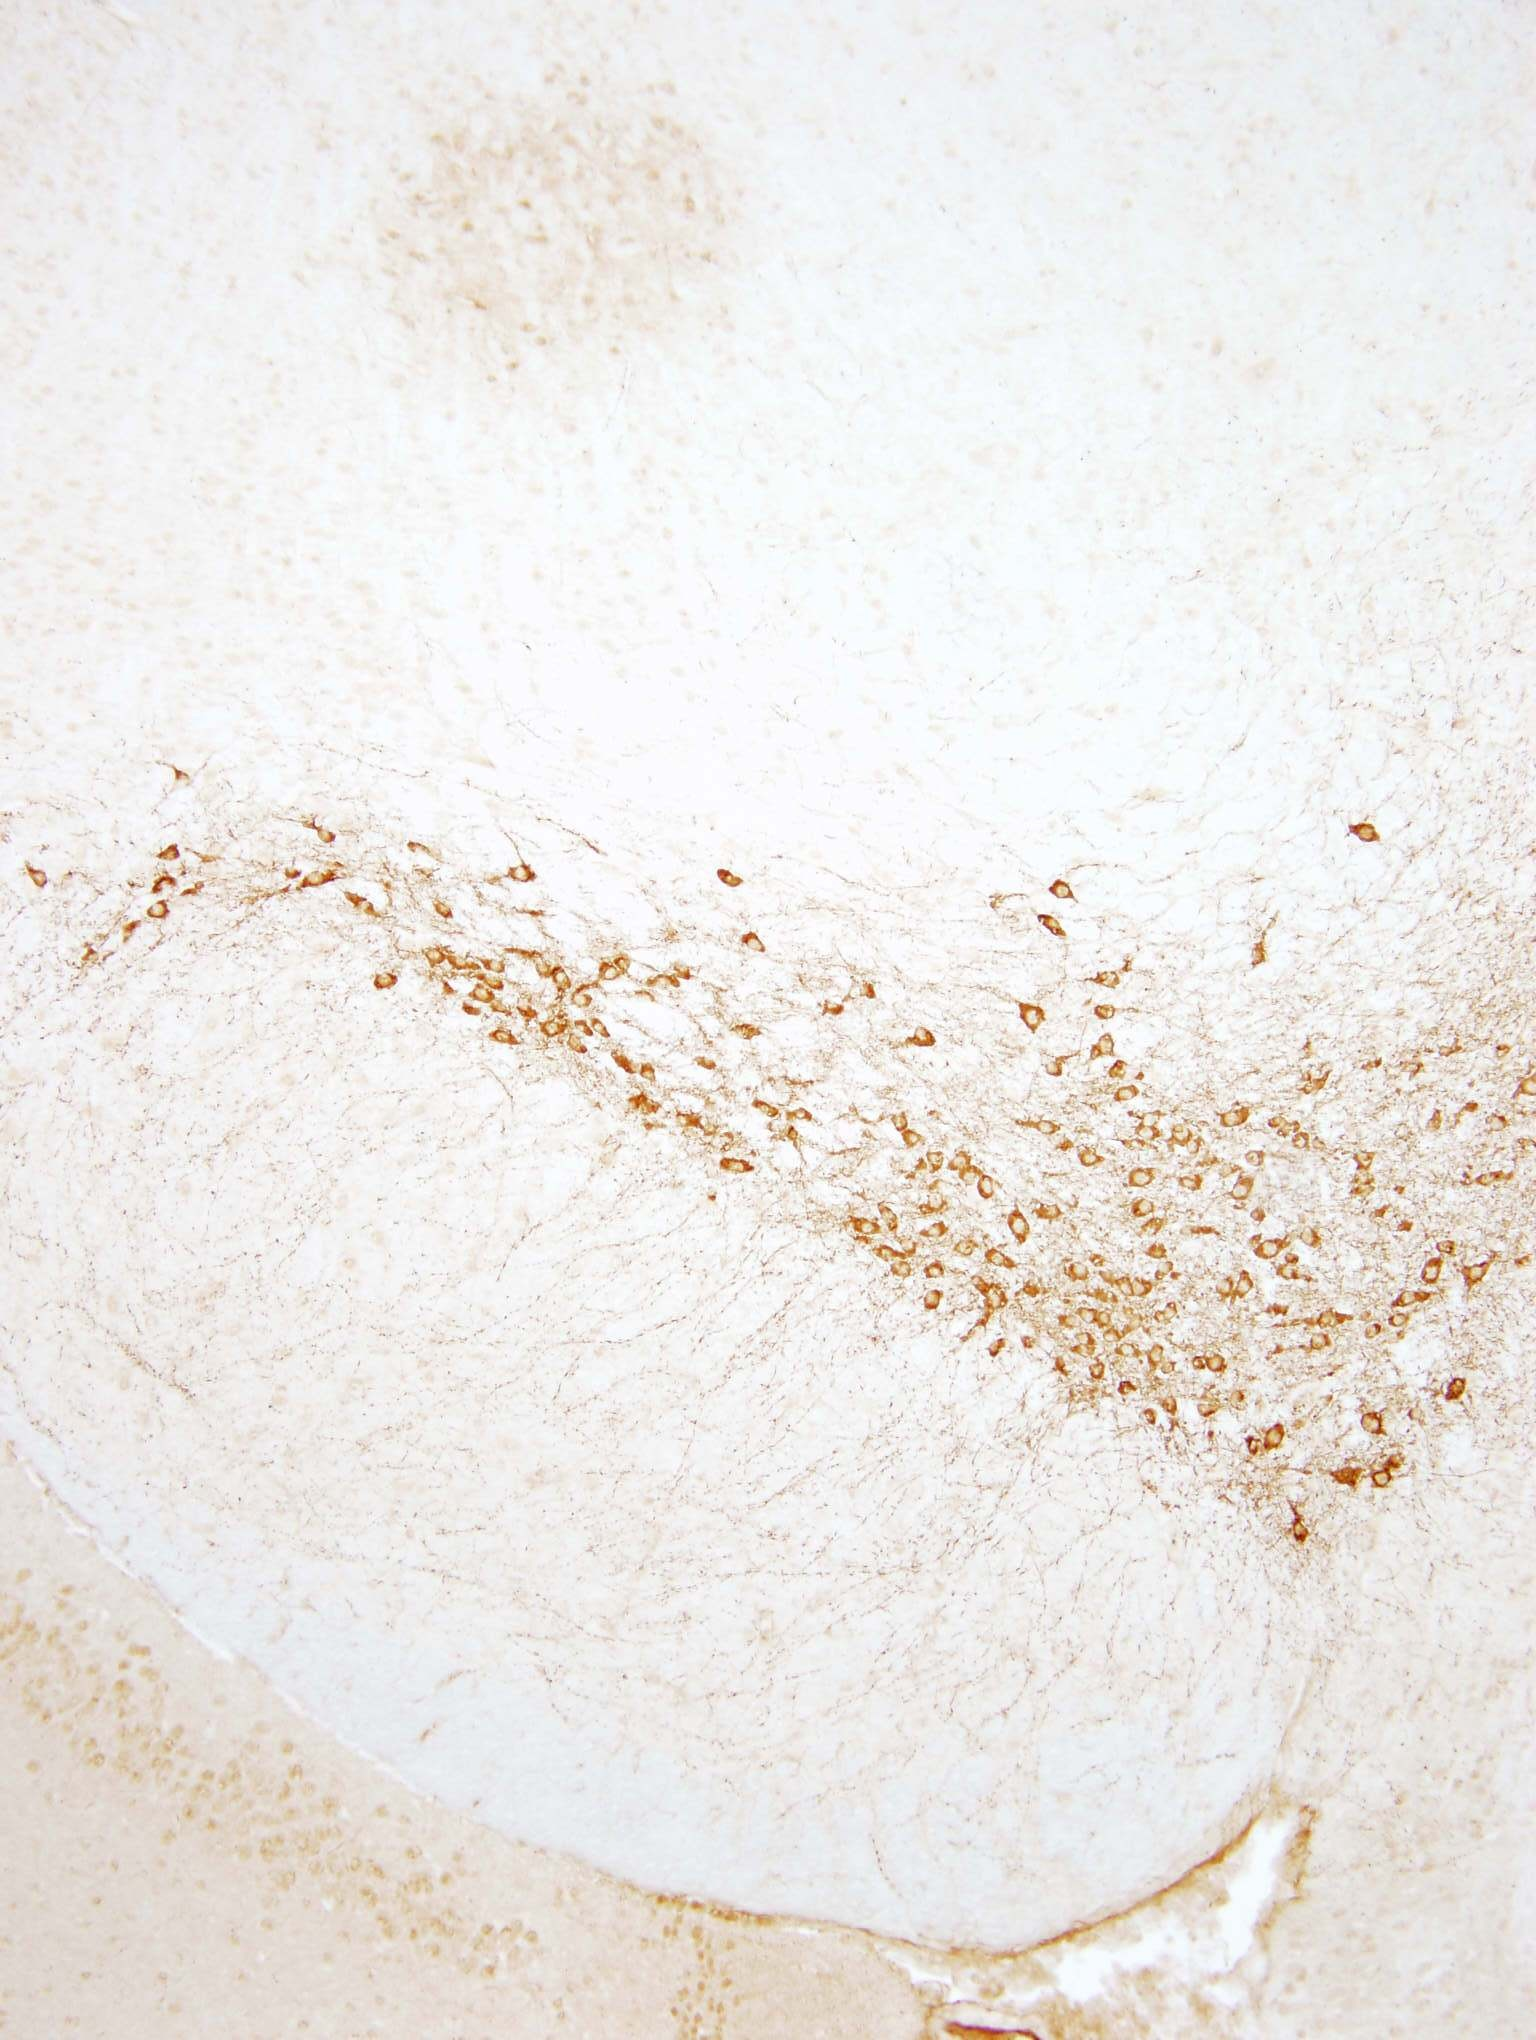neuron: (1350, 1405, 1388, 1442), (1018, 1001, 1054, 1039), (1034, 910, 1071, 945), (1439, 1374, 1476, 1409), (428, 893, 465, 929), (1037, 1055, 1073, 1090), (1258, 1422, 1294, 1458), (1284, 1513, 1320, 1548), (1350, 816, 1386, 851), (350, 887, 386, 922), (368, 964, 403, 1000), (511, 858, 547, 893), (542, 961, 578, 997), (1007, 1216, 1031, 1240), (1036, 1118, 1060, 1142), (1041, 1200, 1065, 1224), (1054, 879, 1078, 903), (1066, 1259, 1091, 1284), (1073, 1303, 1097, 1327), (1078, 1148, 1102, 1172), (1081, 1359, 1105, 1384), (1089, 1309, 1113, 1334), (1094, 1035, 1118, 1060), (1096, 1001, 1120, 1026), (1099, 964, 1123, 989), (1105, 1329, 1129, 1353), (1108, 1277, 1133, 1301), (1113, 1080, 1137, 1105), (1113, 1382, 1137, 1406), (1129, 1168, 1154, 1192), (1136, 1411, 1160, 1435), (1137, 1122, 1162, 1147), (1146, 1340, 1170, 1364), (1154, 1264, 1178, 1289), (1157, 1356, 1181, 1380), (1162, 1392, 1186, 1416), (1187, 1353, 1212, 1377), (1207, 1353, 1231, 1377), (1221, 1103, 1246, 1127), (1231, 1180, 1255, 1205), (1242, 1435, 1267, 1459), (1244, 1209, 1268, 1234), (1246, 1150, 1270, 1174), (1258, 1239, 1283, 1263), (1296, 1226, 1320, 1250), (1307, 1329, 1331, 1353), (1355, 1148, 1379, 1172), (1368, 1468, 1392, 1492), (1386, 1309, 1410, 1334), (1386, 1447, 1410, 1471), (1397, 1285, 1421, 1309), (1434, 1234, 1459, 1258), (1476, 1168, 1501, 1192), (147, 900, 171, 924), (152, 872, 176, 897), (157, 843, 181, 868), (26, 869, 50, 893), (302, 869, 326, 893), (315, 827, 339, 851), (415, 945, 439, 969), (482, 953, 507, 977), (484, 969, 508, 993), (487, 998, 511, 1022), (490, 1027, 515, 1051), (542, 1018, 566, 1042), (566, 989, 591, 1013), (570, 1018, 594, 1042), (570, 1035, 594, 1060), (589, 1018, 613, 1042), (641, 1064, 665, 1089), (721, 871, 745, 895), (726, 1159, 750, 1184), (745, 939, 770, 963), (792, 1105, 816, 1129), (84, 945, 108, 969), (855, 1214, 879, 1239), (887, 1259, 912, 1284), (900, 1234, 925, 1258), (902, 1127, 926, 1151), (921, 1263, 945, 1287), (925, 1290, 949, 1314), (925, 1189, 949, 1213), (926, 1151, 950, 1176), (926, 1219, 950, 1243), (949, 1235, 973, 1259), (958, 1168, 983, 1192), (975, 1172, 999, 1197), (983, 1285, 1007, 1309), (984, 1342, 1008, 1366), (987, 1248, 1012, 1272), (1128, 1277, 1150, 1301), (1133, 1198, 1155, 1222), (1134, 1221, 1158, 1243), (1163, 1305, 1187, 1327), (1170, 1121, 1192, 1145), (1178, 1176, 1202, 1198), (1186, 1142, 1210, 1164), (1291, 1134, 1313, 1158), (1362, 1321, 1386, 1343), (1421, 1263, 1446, 1285), (1467, 1263, 1489, 1287), (1488, 1113, 1512, 1135), (1496, 1042, 1520, 1064), (473, 980, 495, 1005), (597, 963, 621, 985), (874, 1242, 899, 1264), (878, 1206, 900, 1230), (891, 1114, 913, 1139), (913, 1026, 937, 1048), (949, 1147, 971, 1171)
